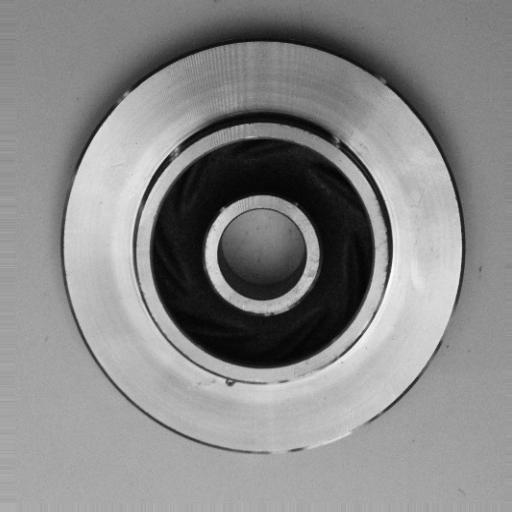casting_with_burr: (57, 34, 465, 458)
crack: (214, 367, 249, 397)
scratch: (262, 411, 373, 462), (260, 364, 337, 395)
